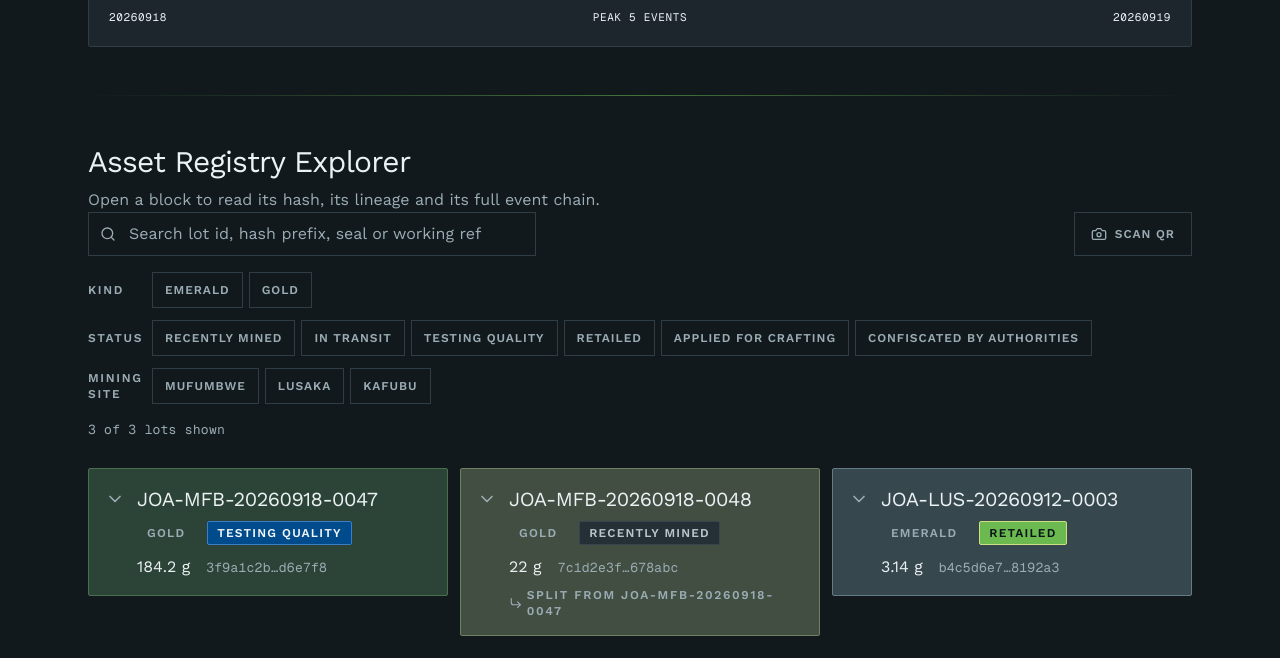
Test: Register integrity across blocks › shows only the opened block's own facts and events
(page scrolled)
Expected: the text "JOA-MFB-20260918-0047" is shown, top-left (137, 484), bottom-right (377, 512)
Click the button with test id "lot.open_button.1". click: (268, 532)
box: top-left (89, 468), bottom-right (447, 595)
(page scrolled)
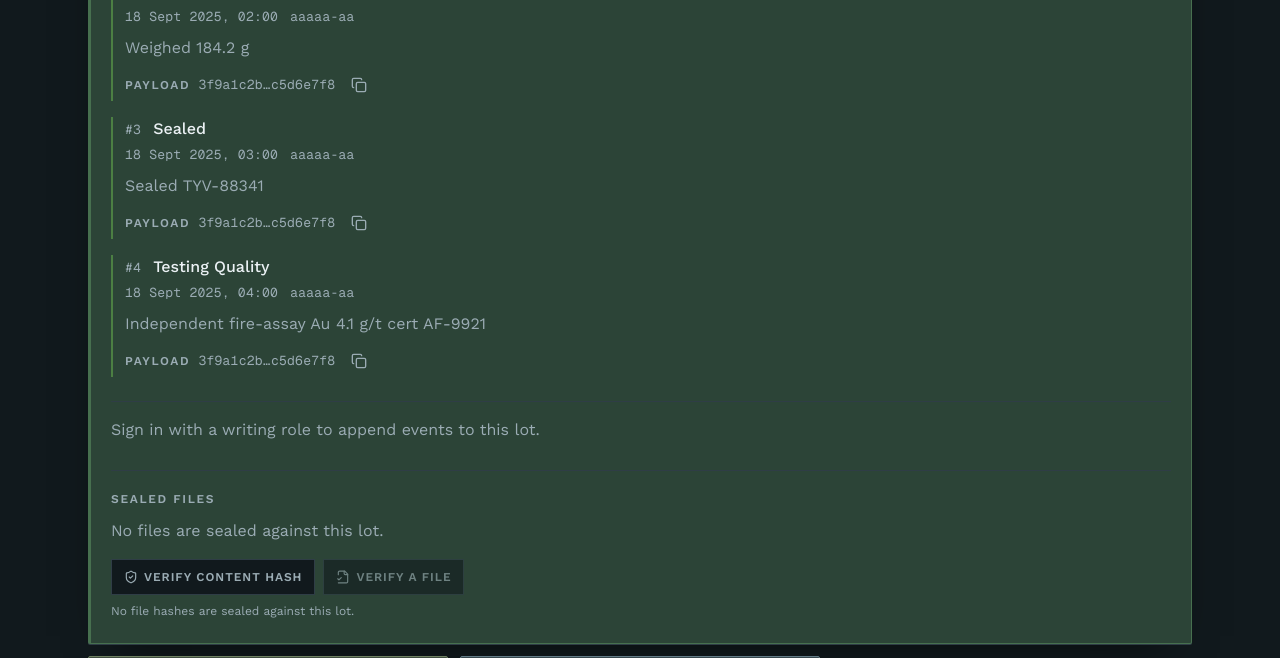
Expected: the text "Independent fire-assay Au 4.1 g/t cert AF-9921" is shown, top-left (125, 314), bottom-right (486, 333)
